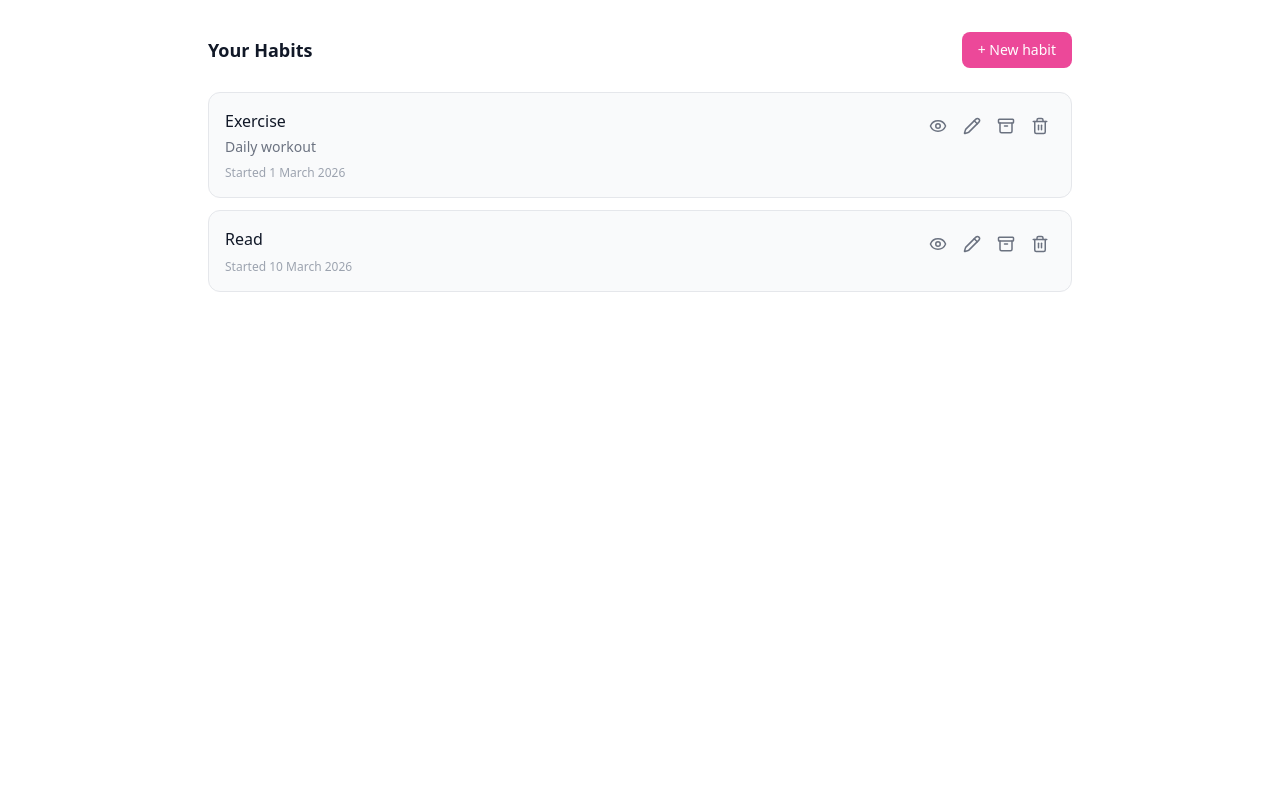
Test: HabitListPage › opens archive ConfirmModal from habit card Archive button
Expected: the link "Exercise" is shown, [225,110,286,132]
Click the button named "archive exercise". click: (1006, 126)
box: [991,111,1021,141]
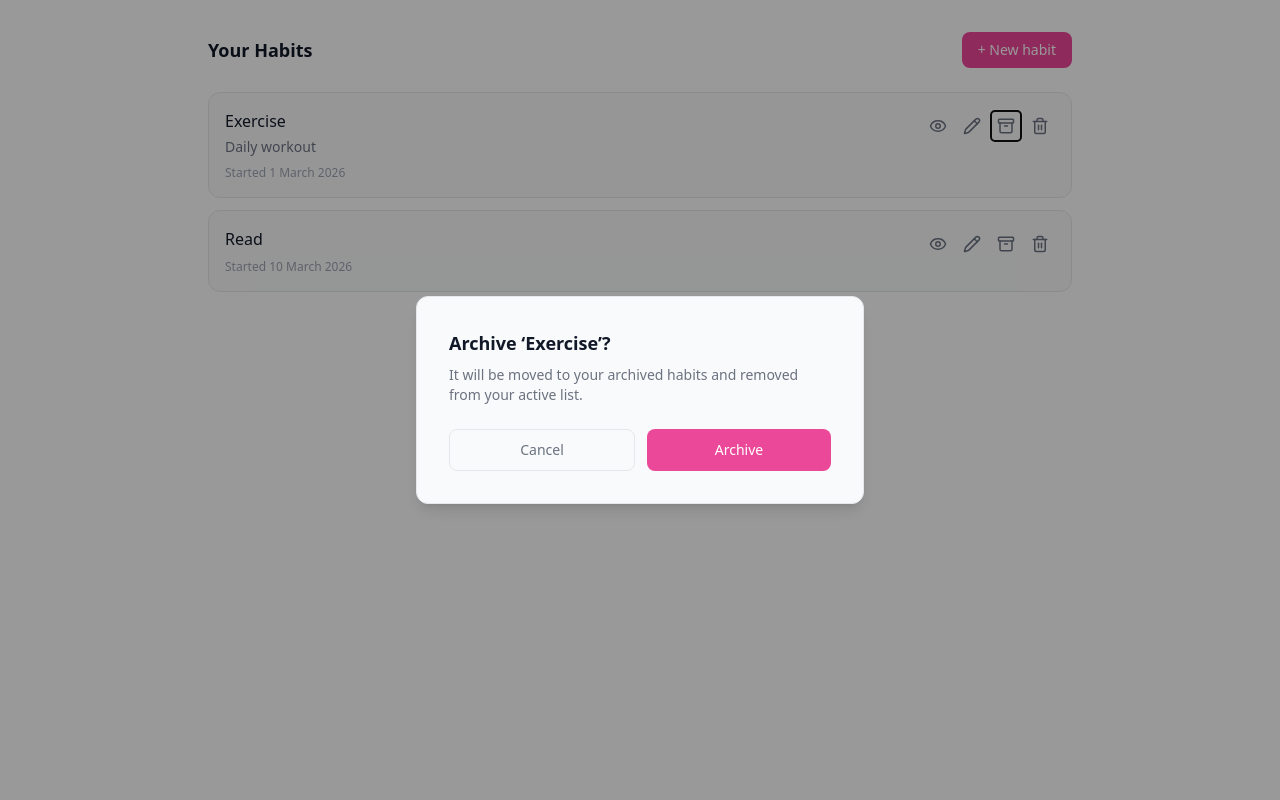
Result: the dialog is shown at [416,296,864,504]
Result: the heading "Archive ‘Exercise’?" is shown at [449,331,610,355]
